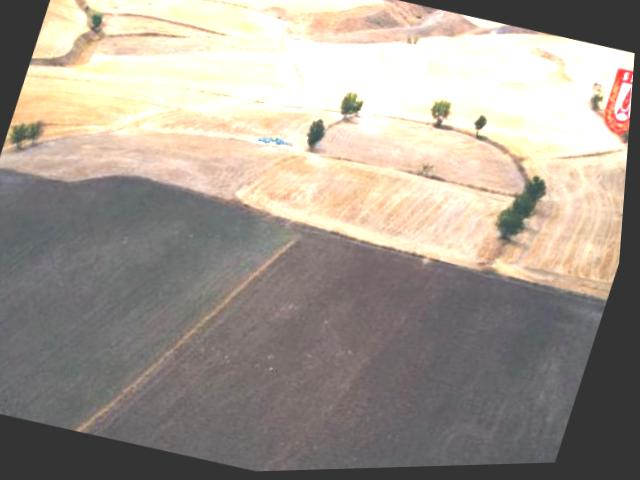uav: (250, 128, 301, 163)
